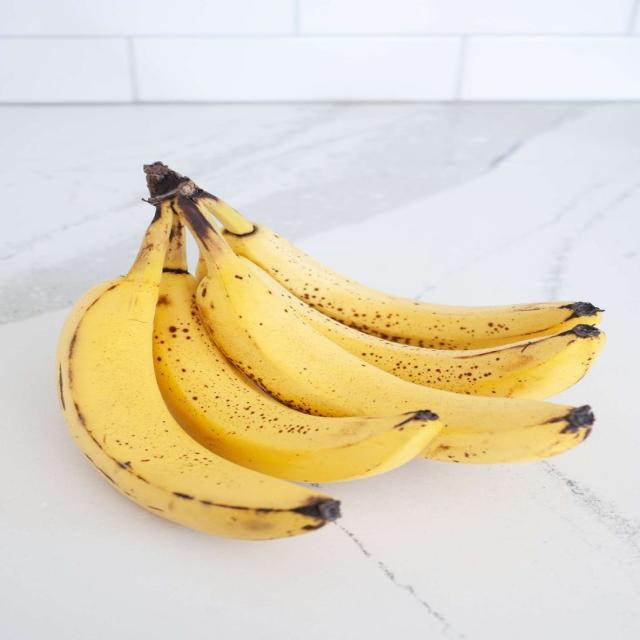unpeal banana: (176, 197, 592, 462), (57, 207, 338, 539), (154, 217, 441, 482), (196, 192, 601, 349), (254, 270, 605, 399)
